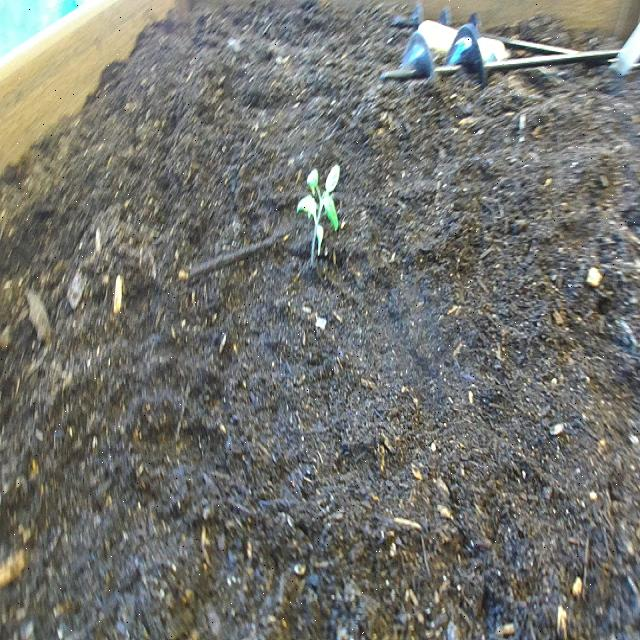Healthy: (297, 160, 342, 271)
